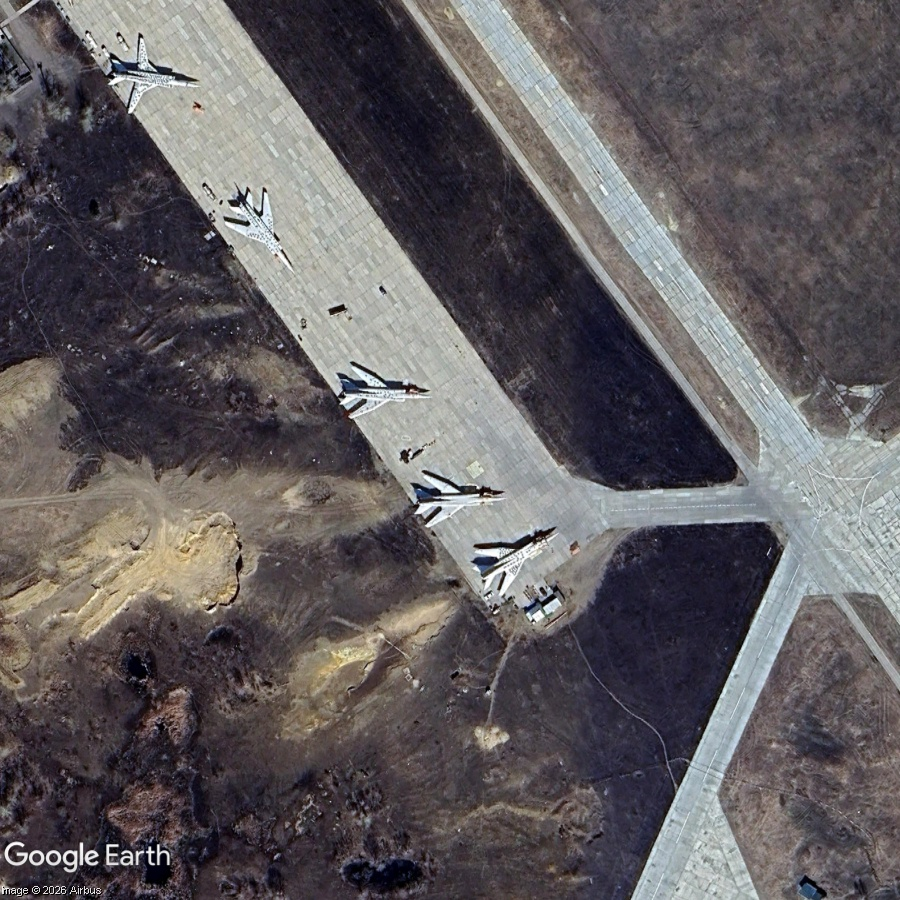Máy bay ném bom: (211, 173, 320, 291), (461, 503, 577, 607), (99, 31, 207, 124), (405, 460, 512, 534), (333, 359, 437, 424)
